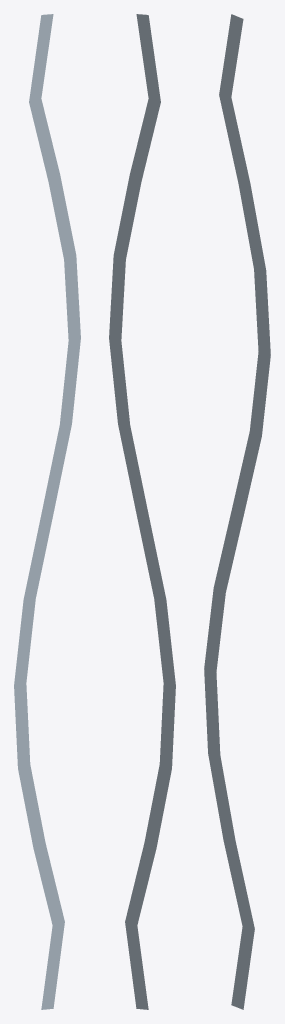
File: 2065_Clap_ClampArc2.fbx
The picture shows the model from 3 angles, left to right: view 1: azimuth 30°, elevation 25°; view 2: azimuth 150°, elevation 25°; view 3: azimuth 330°, elevation 25°; orthographic projection.
Visible parts, largest first — view 1: PART_ClampArc2; view 2: PART_ClampArc2; view 3: PART_ClampArc2.
Boxes of the visible parts, x1,y1,x2,y2 form: PART_ClampArc2: (14, 14, 80, 1009); PART_ClampArc2: (109, 14, 175, 1009); PART_ClampArc2: (204, 14, 270, 1009).
Bounding box in the file's own units: 19.45 × 277 × 4.51e-05.
